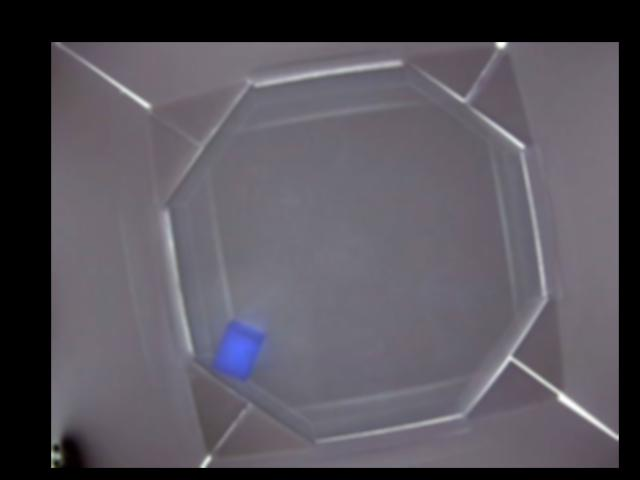Potato: (209, 321, 266, 384)
